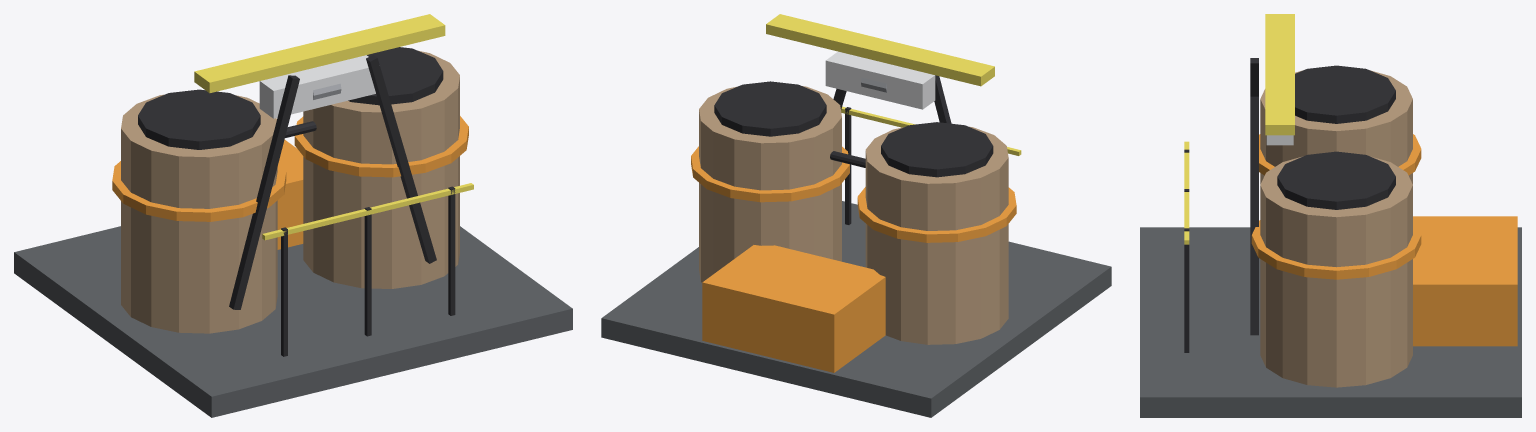
File: SM_Hero_Mine.glb
The picture shows the model from 3 angles, left to right: view 1: azimuth 30°, elevation 25°; view 2: azimuth 150°, elevation 25°; view 3: azimuth 270°, elevation 25°; orthographic projection. The views are drawn at different scales.
Visible parts, largest first — view 1: SM_Hero_Mine; view 2: SM_Hero_Mine; view 3: SM_Hero_Mine.
Boxes of the visible parts, x1,y1,x2,y2 form: SM_Hero_Mine: (14, 14, 572, 417); SM_Hero_Mine: (601, 14, 1111, 417); SM_Hero_Mine: (1140, 14, 1521, 417).
Bounding box in the file's own units: 5.7 × 4.11 × 5.4.
